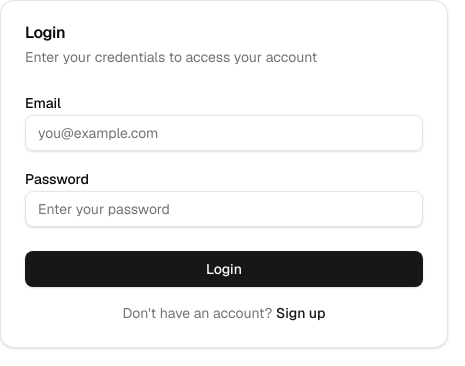
Test: LoginForm › disables form while submitting
Type "test@example.com" into the field labelled "Email" at [224, 133], box [25,115,423,151]
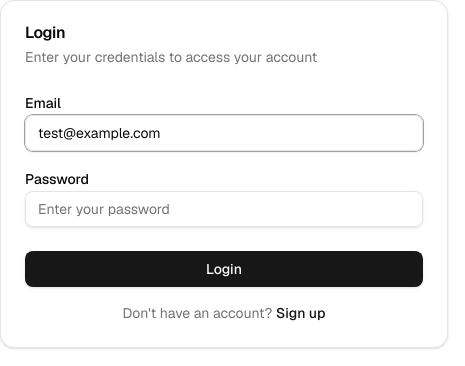
Type "password123" into the password field labelled "Password" at [224, 209], box [25,191,423,227]
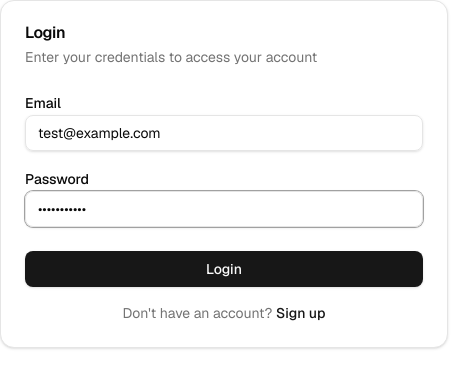
Click the button "Login" at [224, 269], box [25,251,423,287]
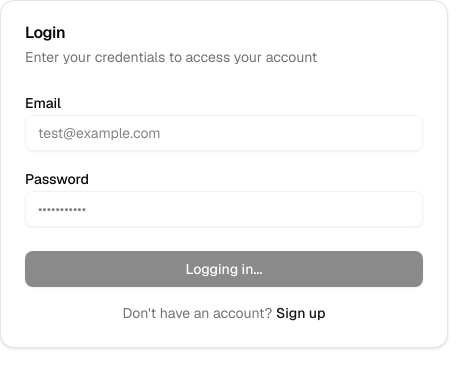
Expected: the button named "login" is disabled, [25,251,423,287]
Expected: the field labelled "Email" is disabled, [25,115,423,151]
Expected: the password field labelled "Password" is disabled, [25,191,423,227]
